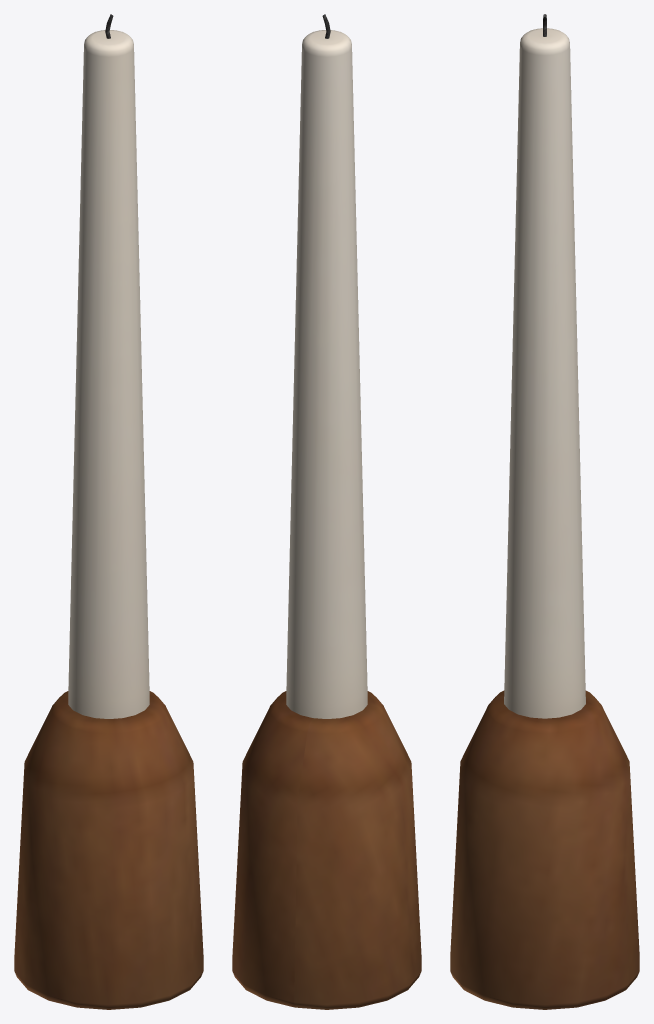
The model's file is GardenTableWear01_13.FBX.
3 views of the same model, side by side, from view 1: azimuth 30°, elevation 25°; view 2: azimuth 150°, elevation 25°; view 3: azimuth 270°, elevation 25° (orthographic).
Visible parts, largest first — view 1: GardenTableWear01_13; view 2: GardenTableWear01_13; view 3: GardenTableWear01_13.
Part boxes in pixels (x1,y1,x2,y2): GardenTableWear01_13: [14, 14, 203, 1009]; GardenTableWear01_13: [232, 14, 421, 1009]; GardenTableWear01_13: [450, 14, 639, 1009].
Size of what is drawn, in the model's own units: 0.0509 by 0.2801 by 0.0501.
